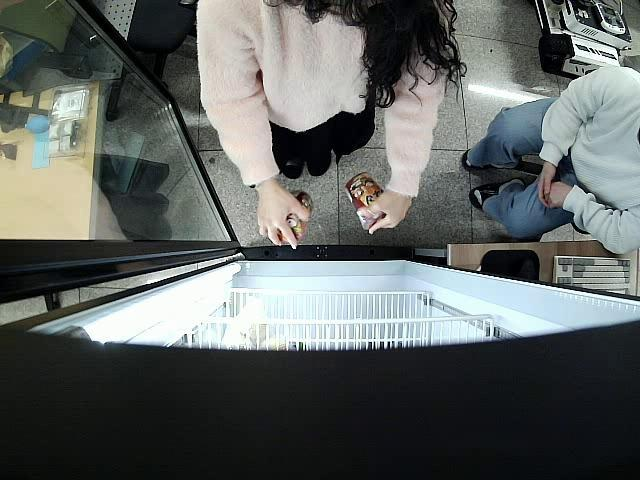06_nuguri_S: (343, 172, 387, 228), (272, 188, 313, 244)
